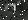person: (18, 2, 23, 14), (6, 5, 12, 15), (12, 4, 16, 14)
